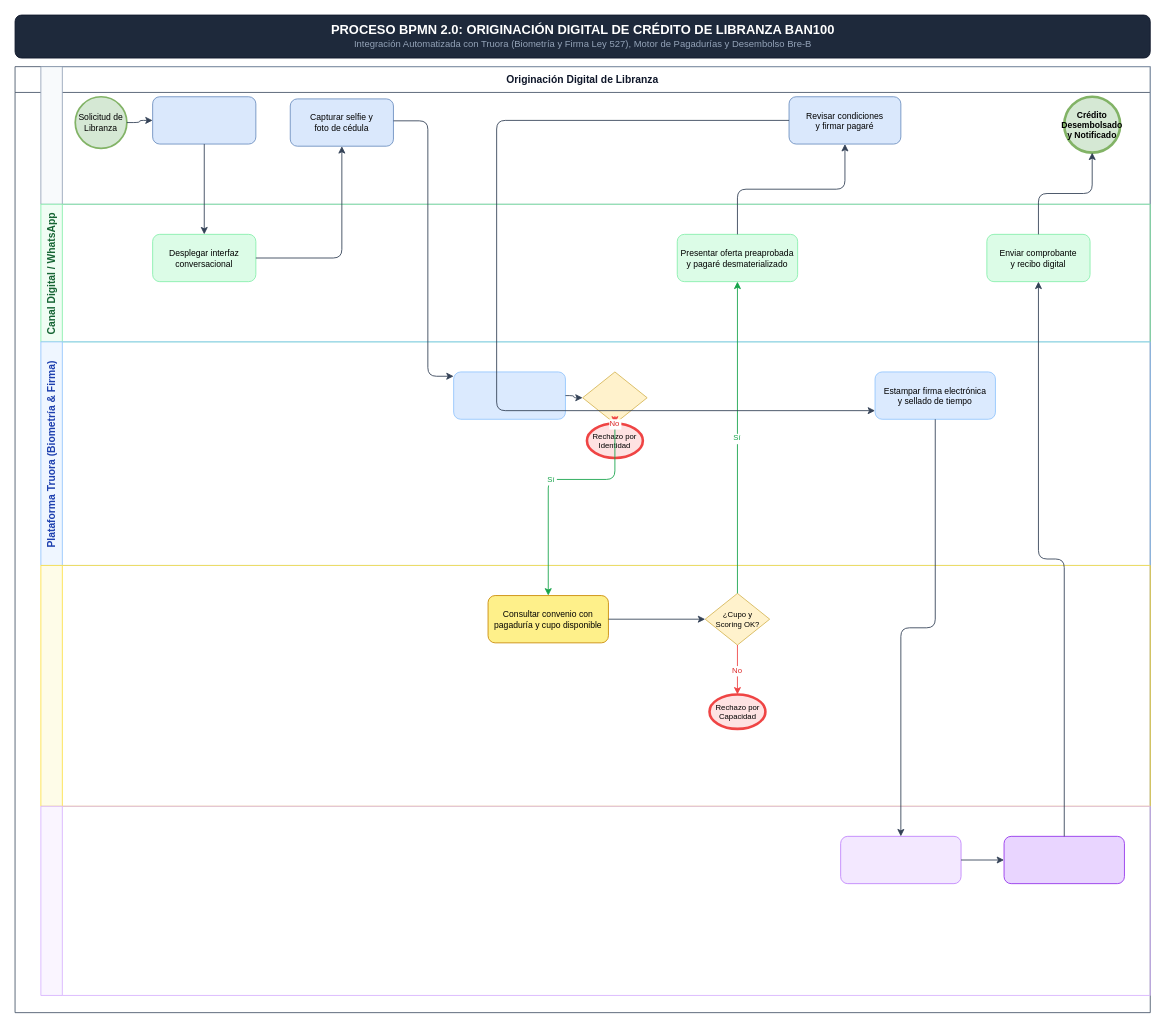
The diagram is 1165 pixels wide and 1028 high, and some of its shapes have lost their labels. The box of each missing label's shape, as (x1, y1, x2, y2) in pixels:
Core Bancario & Bre-B (Ban100): (40, 805, 1150, 995)
Crear obligación en Core y registrar pagaré en Deceval: (840, 835, 961, 884)
Desembolso Inmediato vía Bre-B (ISO 20022): (1003, 835, 1124, 884)
Ingresar datos, pagaduría y monto: (152, 96, 256, 144)
Motor Reglas & Pagadurías (Ban100): (40, 565, 1150, 806)
Pensionado / Cliente: (40, 66, 1150, 204)
Validar biometría facial y OCR documento: (453, 371, 565, 419)
¿Identidad Válida?: (582, 371, 647, 424)
